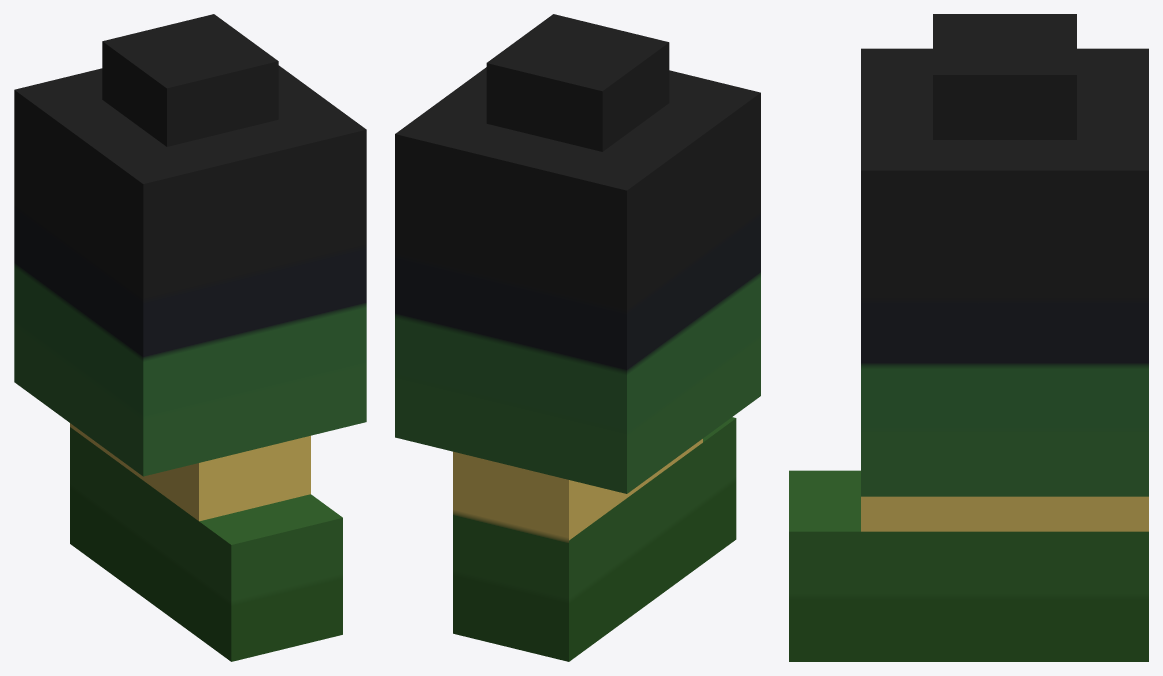
File: Knee067.fbx
3 views of the same model, side by side, from view 1: azimuth 30°, elevation 25°; view 2: azimuth 150°, elevation 25°; view 3: azimuth 270°, elevation 25° (orthographic). The views are drawn at different scales.
Visible parts, largest first — view 1: Knee067; view 2: Knee067; view 3: Knee067.
Part boxes in pixels (x1,y1,x2,y2): Knee067: [14, 14, 366, 661]; Knee067: [395, 14, 760, 661]; Knee067: [789, 14, 1148, 661].
Bounding box in the file's own units: 4 × 9 × 5.
